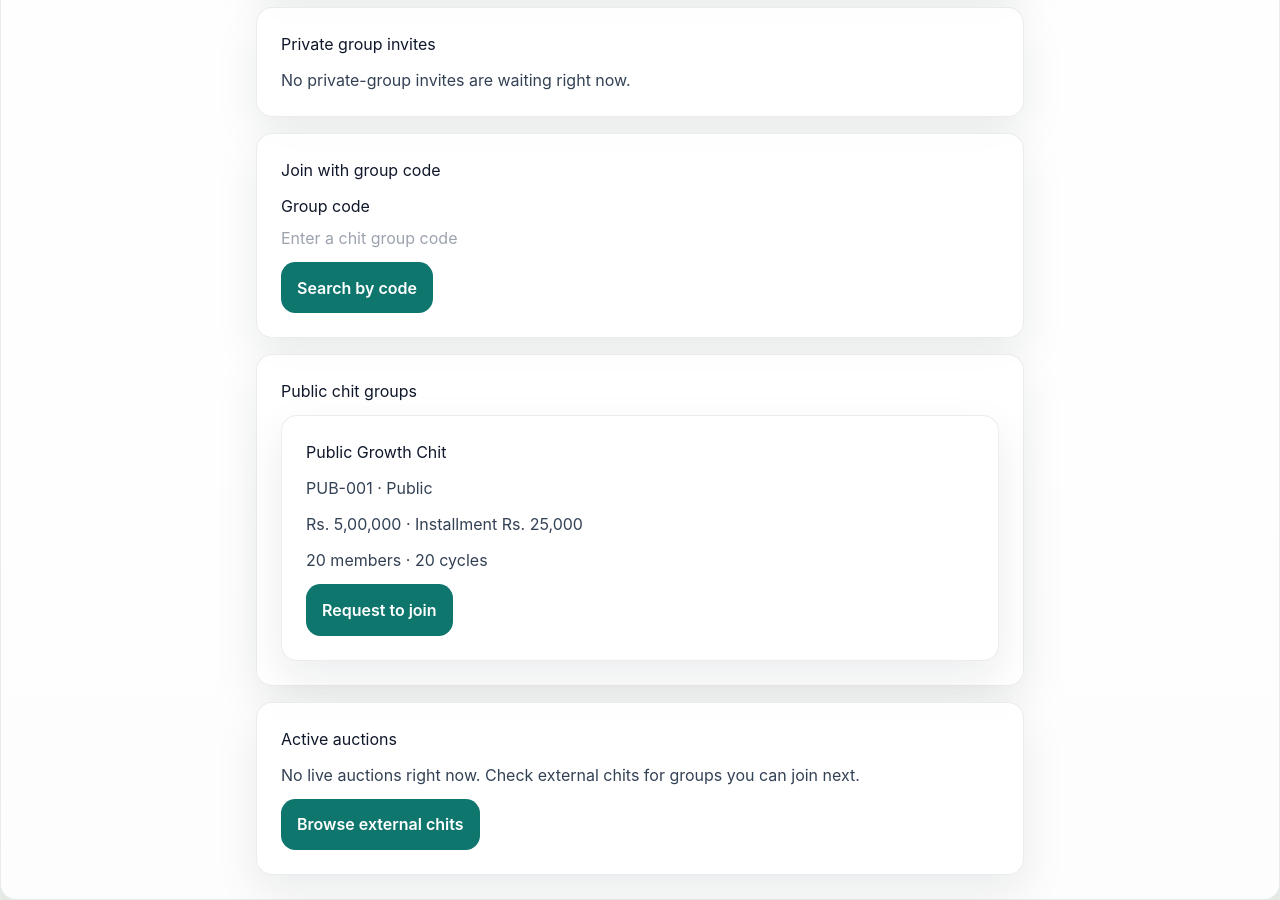
lets a subscriber request to join a public chit from the discovery list
(page scrolled)
Expected: the heading "Public Growth Chit" is shown, top-left (306, 442), bottom-right (446, 462)
Click the button "Request to join": (379, 610) top-left (306, 584), bottom-right (453, 636)
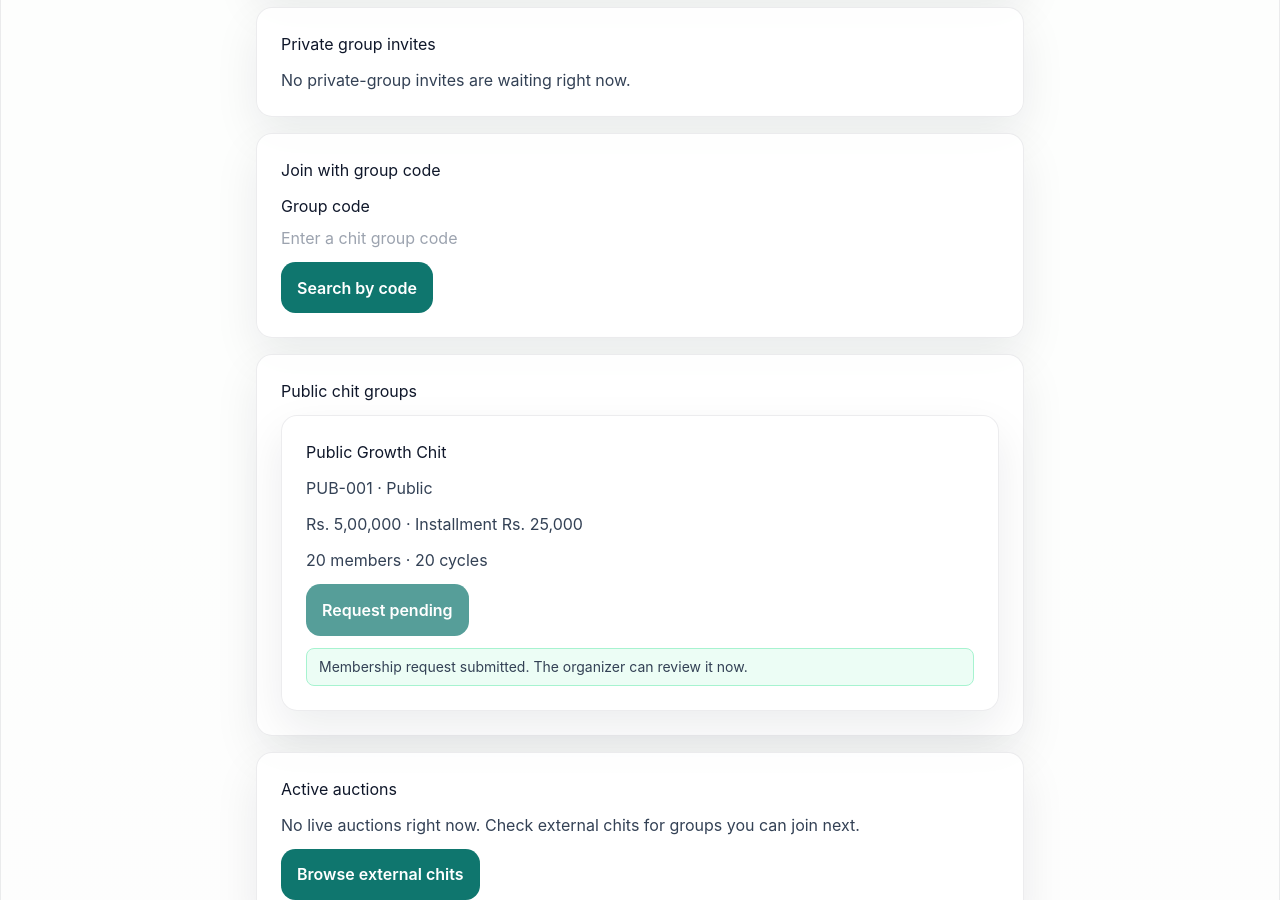
Expected: the text "Membership request submitted. The organizer can review it now." is shown, top-left (306, 648), bottom-right (974, 686)
Expected: the button "Request pending" is disabled, top-left (306, 584), bottom-right (469, 636)
